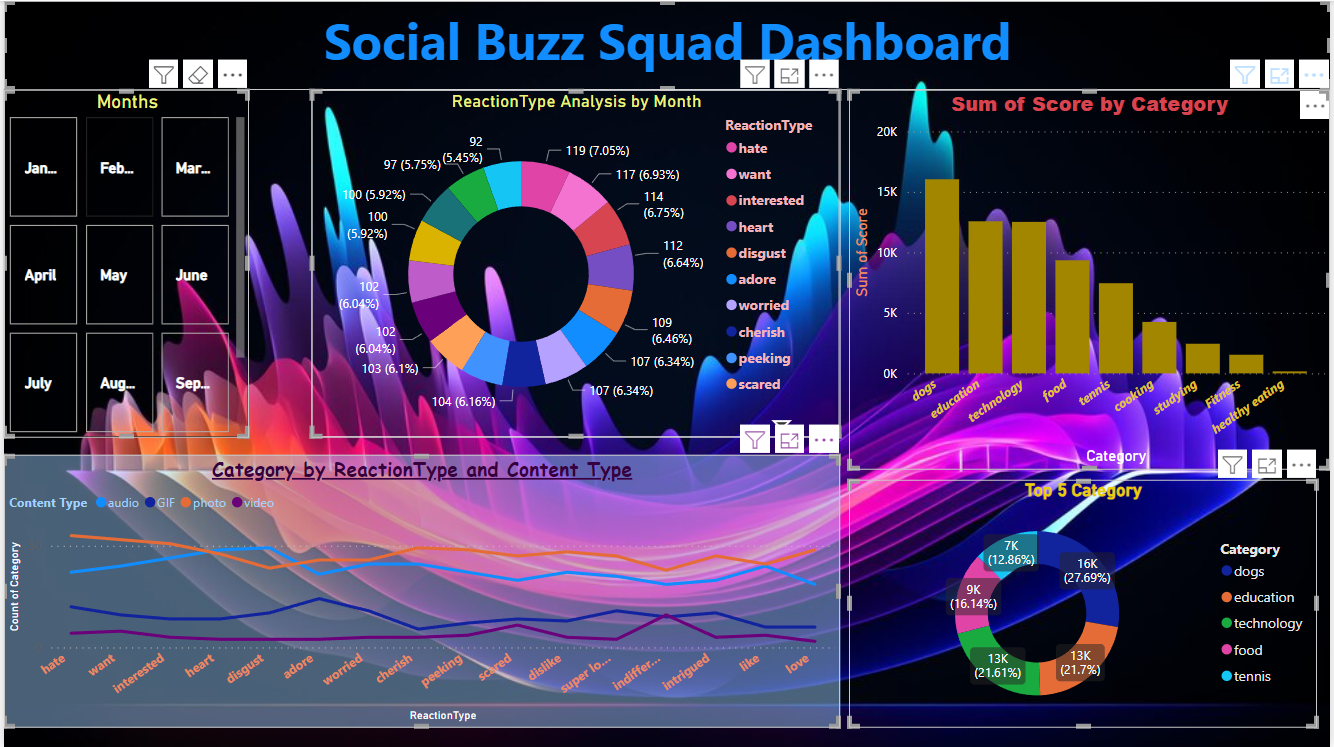

What the dashboard file says about the page in this screenshot:
{"tool":"powerbi","page":{"name":"Page 1","canvas":[1280,720],"ordinal":0},"visuals":[{"type":"textbox","box":[0,0,1280.3,85.1],"z":0},{"type":"advancedSlicerVisual","title":" Months","fields":{"Values":["task 1st (2).Datetime.Variation.Date Hierarchy.Month"]},"box":[0,85.6,236.4,335.3],"z":1000},{"type":"donutChart","title":" ReactionType Analysis by Month","fields":{"Y":["CountNonNull(task 1st (2).ReactionType)"],"Category":["task 1st (2).ReactionType"]},"box":[296.7,85.6,510.2,335.3],"z":2000},{"type":"lineStackedColumnComboChart","fields":{"Category":["task 1st (2).Category"],"Y":["Sum(task 1st (2).Score)"]},"box":[815.3,85.6,464.3,366.6],"z":3000},{"type":"donutChart","title":"Top 5 Category","fields":{"Category":["task 1st (2).Category"],"Y":["Sum(task 1st (2).Score)"]},"box":[815.3,461.9,452.3,238.8],"z":4000},{"type":"lineChart","title":"Category by ReactionType and Content Type","fields":{"Category":["task 1st (2).ReactionType"],"Y":["CountNonNull(task 1st (2).Category)"],"Series":["task 1st (2).Content Type"]},"box":[0,437.8,806.8,262.9],"z":5000}]}

Visuals, with their boxes in screenshot pixels (x1, y1, x2, y2), scaled from the page's 1280x720 canvas onto the 1334x747 screenshot:
textbox: 0:0:1333:88
" Months" advancedSlicerVisual: 0:89:246:437
" ReactionType Analysis by Month" donutChart: 309:89:841:437
lineStackedColumnComboChart - task 1st (2).Category x Sum(task 1st (2).Score): 850:89:1333:469
"Top 5 Category" donutChart: 850:479:1321:727
"Category by ReactionType and Content Type" lineChart: 0:454:841:727
